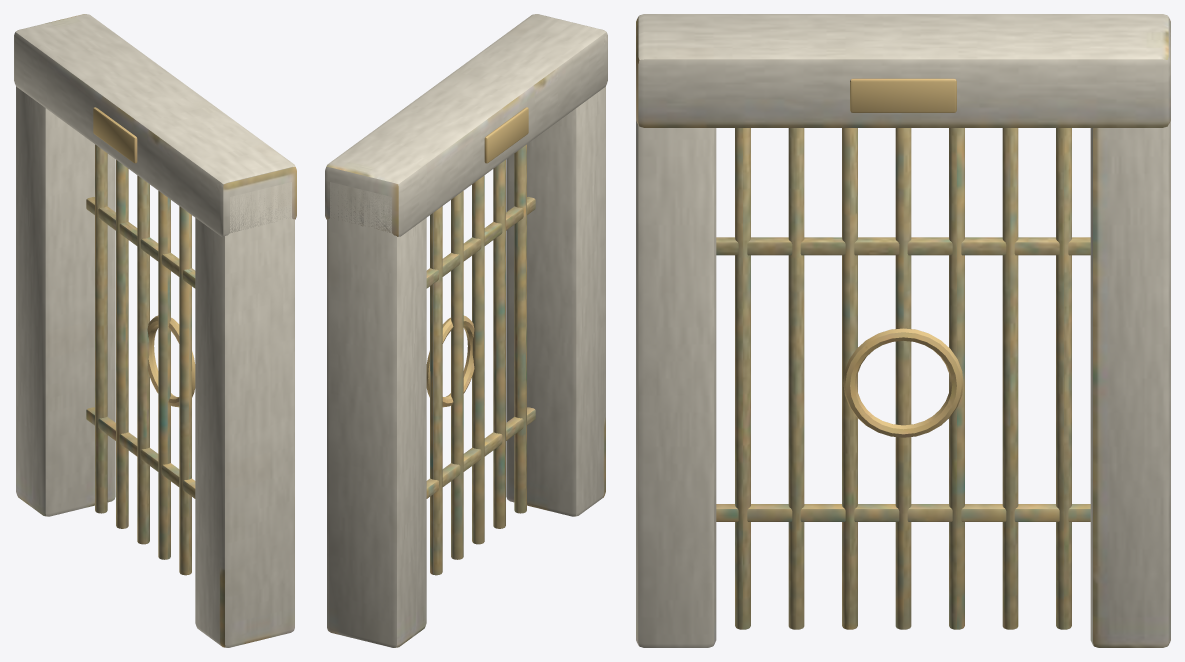
File: door_grille.glb
The picture shows the model from 3 angles, left to right: view 1: azimuth 30°, elevation 25°; view 2: azimuth 150°, elevation 25°; view 3: azimuth 270°, elevation 25°; orthographic projection. The views are drawn at different scales.
Visible parts, largest first — view 1: arch_l, arch_r, lintel, bar2, bar6, bar5, bar3, bar4, rail0.5, rail1.6, plate-1, sun; view 2: arch_r, arch_l, lintel, bar4, bar0, bar1, bar3, bar2, rail0.5, rail1.6, plate-1, sun; view 3: lintel, arch_l, arch_r, bar1, bar5, bar3, bar0, bar6, bar2, bar4, rail1.6, rail0.5 (+2 smaller).
Part boxes in pixels (box(x1,y1,x2,y2)): arch_l: box(195, 182, 294, 647); arch_r: box(16, 86, 115, 516); lintel: box(14, 14, 296, 236); bar2: box(179, 206, 191, 575); bar6: box(95, 144, 107, 513); bar5: box(116, 160, 128, 528); bar3: box(158, 191, 170, 559); bar4: box(137, 175, 149, 544); rail0.5: box(86, 407, 195, 498); rail1.6: box(86, 197, 195, 288); plate-1: box(93, 107, 137, 163); sun: box(147, 315, 195, 407); arch_r: box(327, 182, 426, 647); arch_l: box(506, 86, 605, 516); lintel: box(325, 14, 607, 236); bar4: box(430, 206, 442, 575); bar0: box(514, 144, 526, 513); bar1: box(493, 160, 505, 528); bar3: box(451, 191, 463, 559); bar2: box(472, 175, 484, 544); rail0.5: box(426, 407, 535, 498); rail1.6: box(426, 197, 535, 288); plate-1: box(484, 107, 528, 163); sun: box(426, 315, 474, 407); lintel: box(636, 14, 1170, 127); arch_l: box(636, 121, 716, 647); arch_r: box(1090, 121, 1170, 647); bar1: box(788, 128, 804, 629); bar5: box(1002, 128, 1018, 629); bar3: box(895, 128, 911, 629); bar0: box(735, 128, 750, 629); bar6: box(1056, 128, 1071, 629); bar2: box(842, 128, 857, 629); bar4: box(949, 128, 964, 629); rail1.6: box(716, 237, 1090, 255); rail0.5: box(716, 504, 1090, 521).
Bounding box in the file's own units: 0.46 × 2.45 × 2.
1 material, 1 textured.
